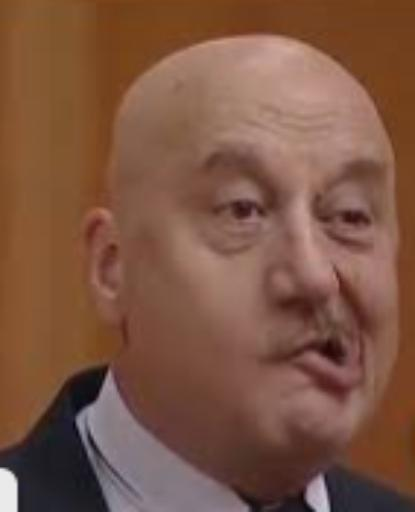left_eye: (323, 207, 376, 233)
right_eye: (212, 198, 270, 226)
right_lip_corner: (255, 347, 285, 369)
